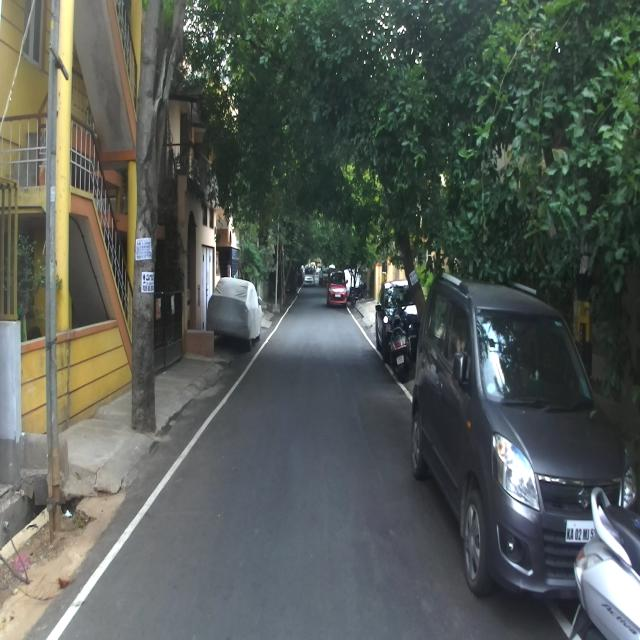car ahead at: (417, 269, 578, 597), (209, 275, 268, 344)
tree ahead at: (132, 6, 170, 442)
